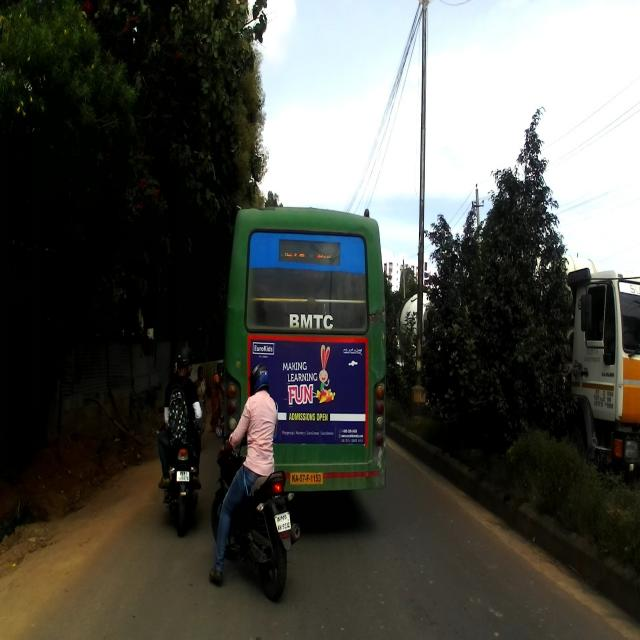bus: (225, 202, 388, 492)
motorcycle: (207, 417, 301, 602)
motorcycle_TVS: (157, 401, 204, 537)
truck: (529, 245, 639, 484)
